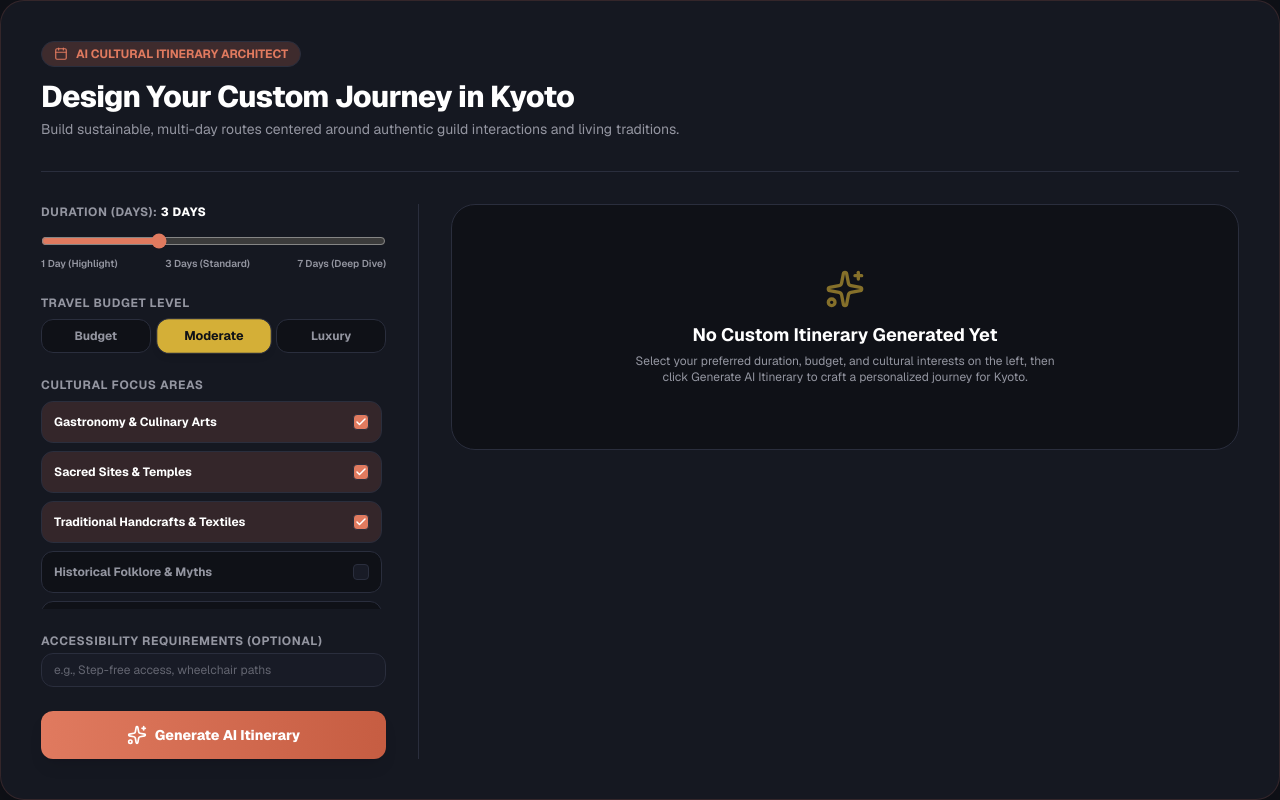
Scenario: ItineraryBuilder – Itinerary Display (mocked API) › displays itinerary title after generation
Click the button "Generate AI Itinerary": (214, 735) top-left (41, 711), bottom-right (386, 759)
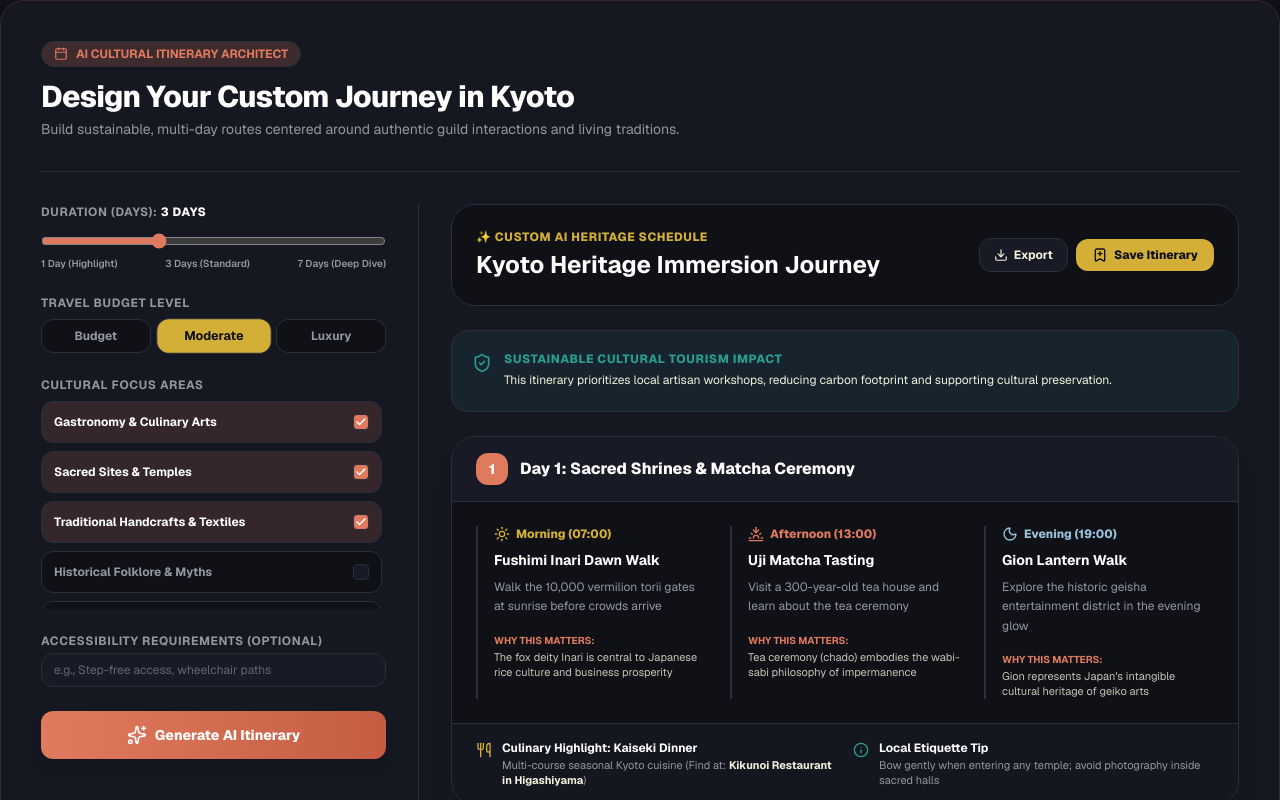
Expected: the heading "Kyoto Heritage Immersion Journey" is shown, top-left (476, 249), bottom-right (880, 281)
